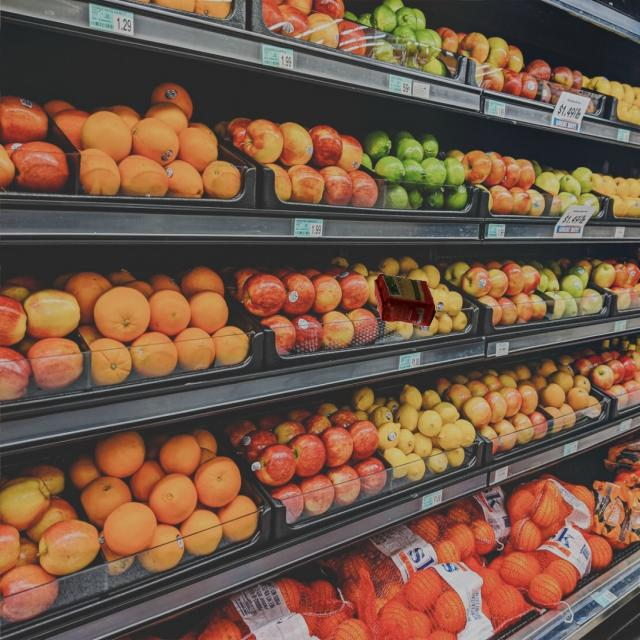mate bag: (372, 266, 433, 326)
